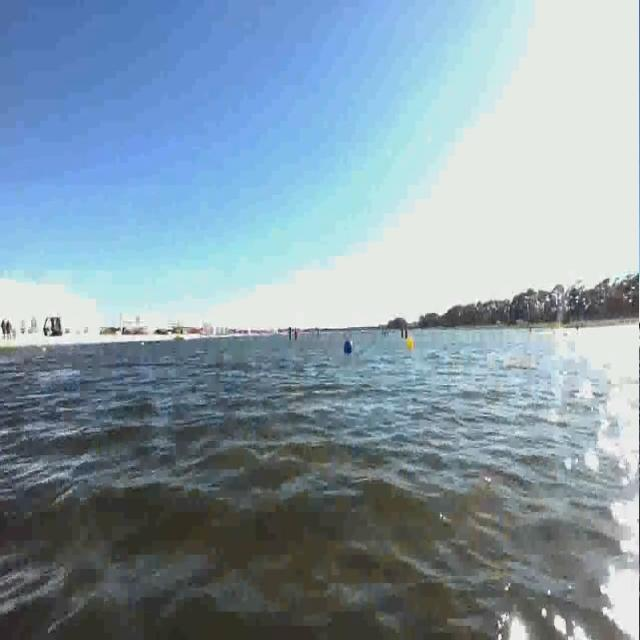blue-buoy: (344, 339, 354, 356)
yellow-buoy: (408, 337, 415, 351)
